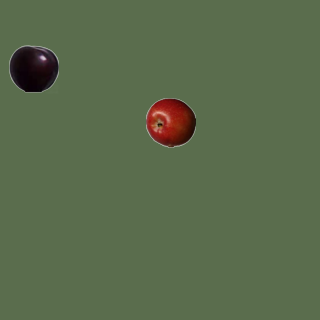Apple Braeburn: (145, 97, 195, 147)
Cherry Wax Black: (8, 43, 58, 93)
